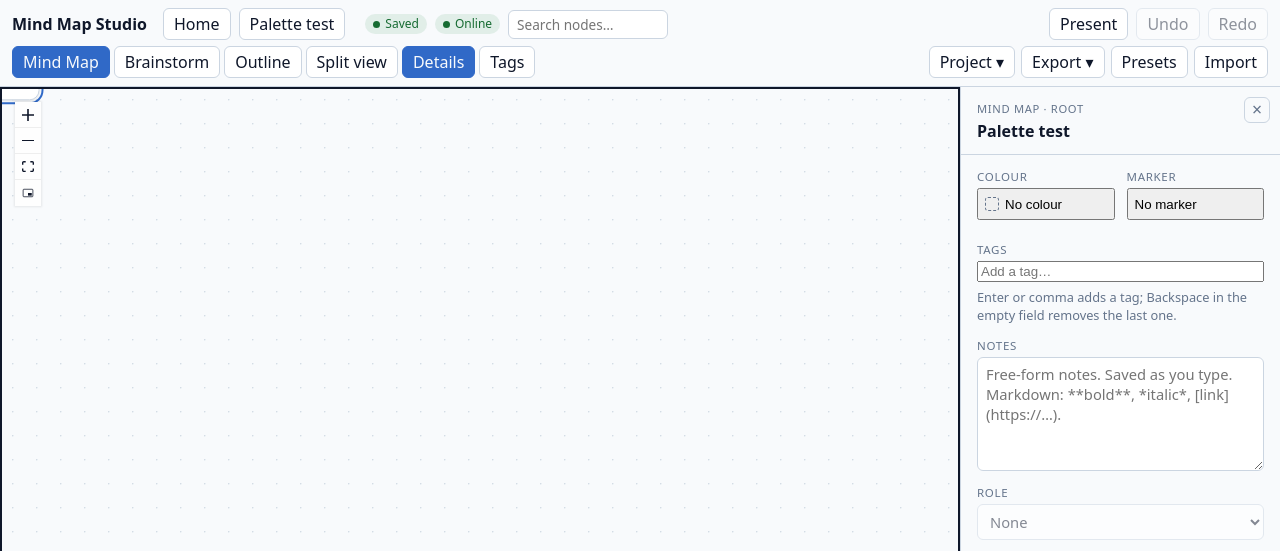
it: Command palette — filtering and running › Enter on the input runs the active command and closes the palette
Step 1. Press k
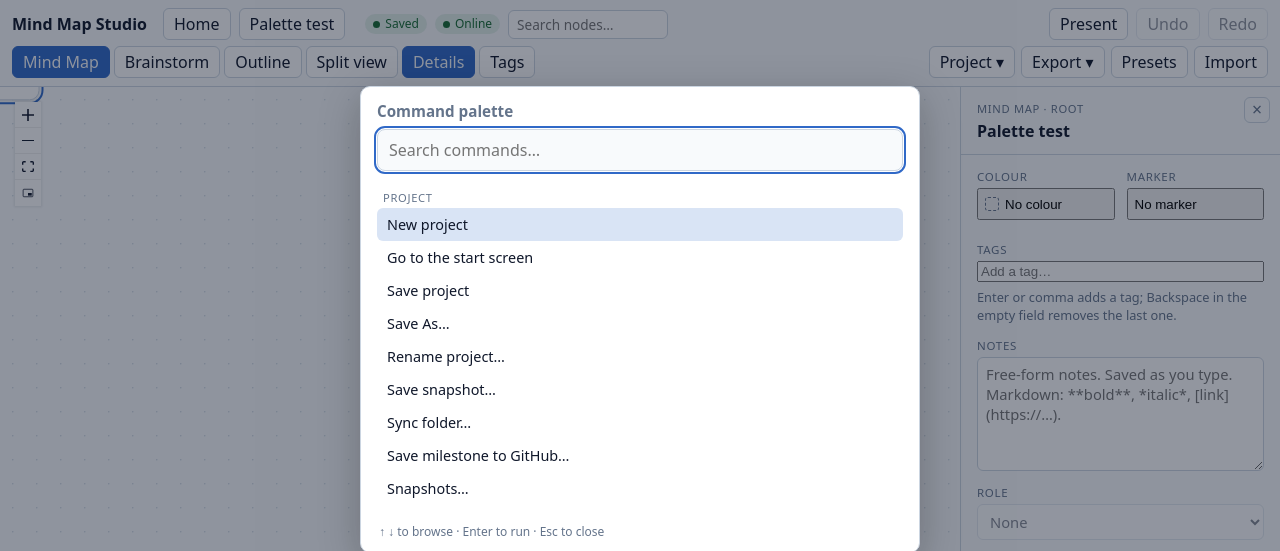
Step 2. Type "Go to Outline" into the dropdown with test id "command-palette-input" → (640, 150), box [377,129,903,171]
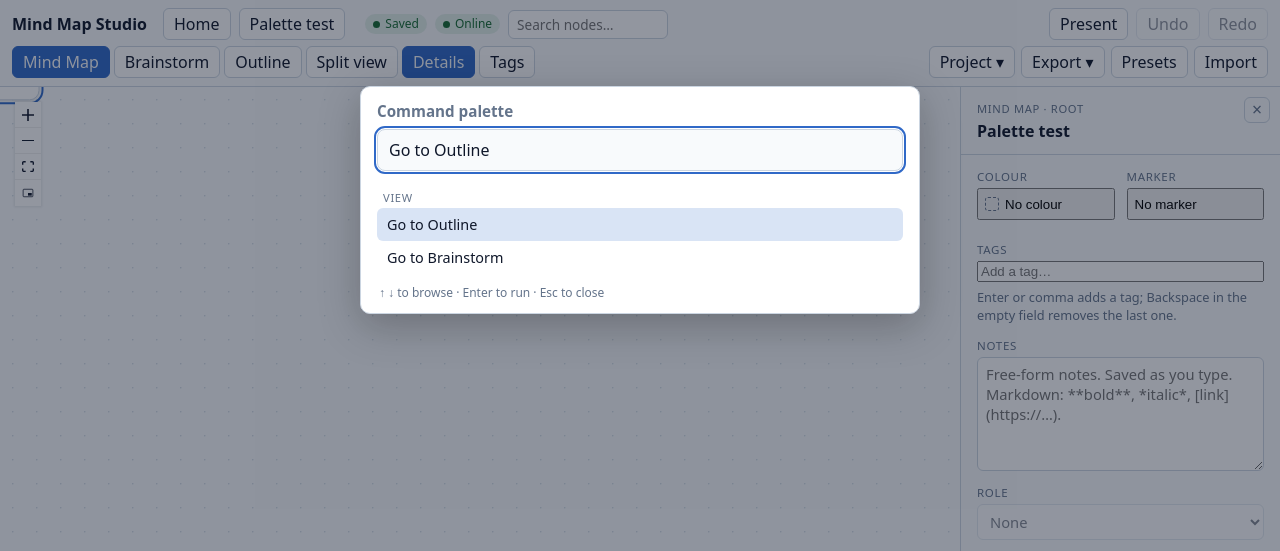
Step 3. Press Enter in the dropdown with test id "command-palette-input", box [377,129,903,171]
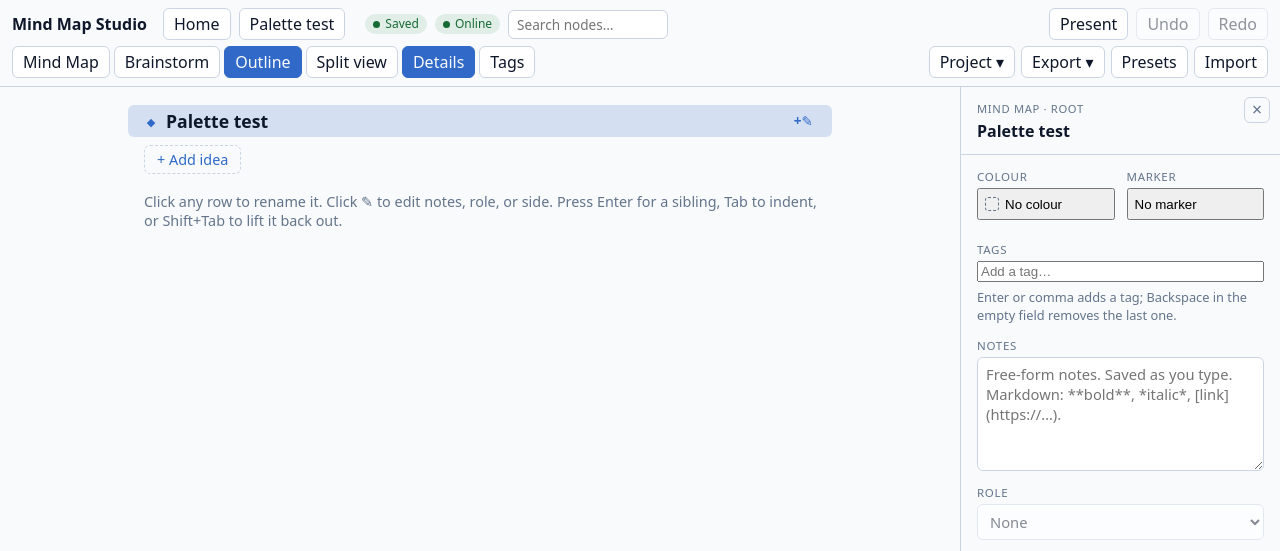
Expected: the dialog with test id "command-palette" is gone
